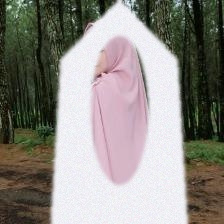Mukena: (47, 35, 191, 224)
